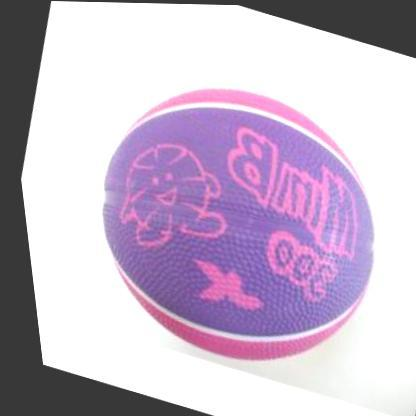basketball: (46, 46, 416, 400)
